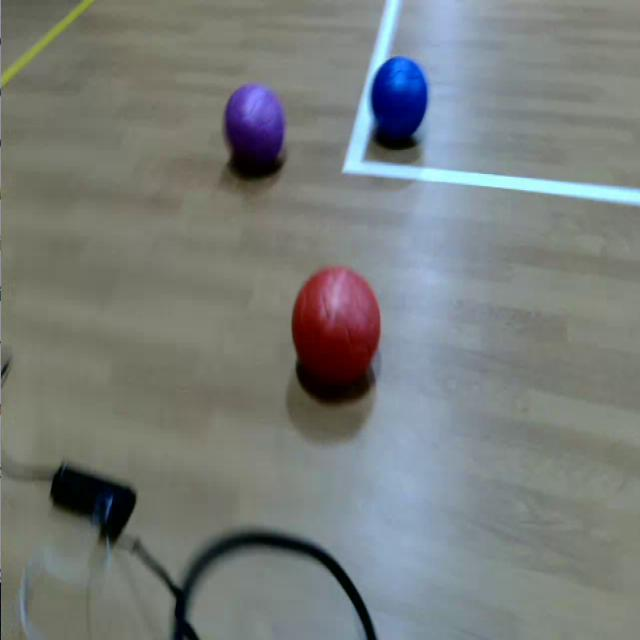blue_ball: (368, 54, 429, 145)
purple_ball: (222, 83, 288, 169)
red_ball: (290, 265, 382, 386)
